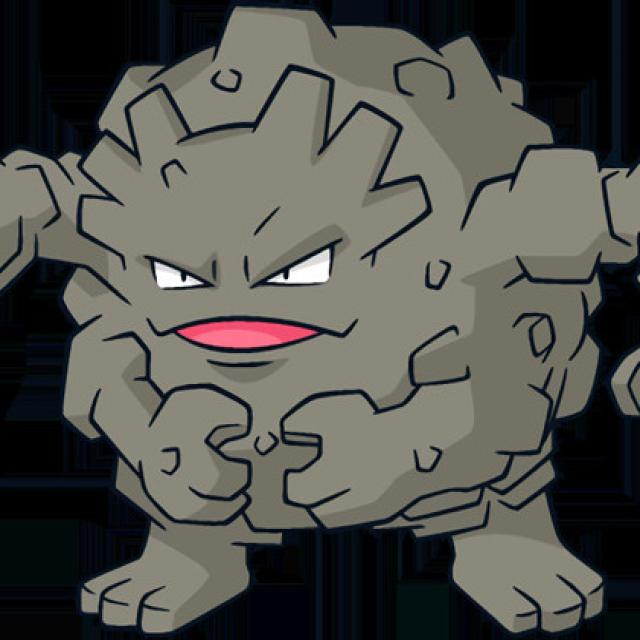Graveler: (0, 36, 640, 576)
